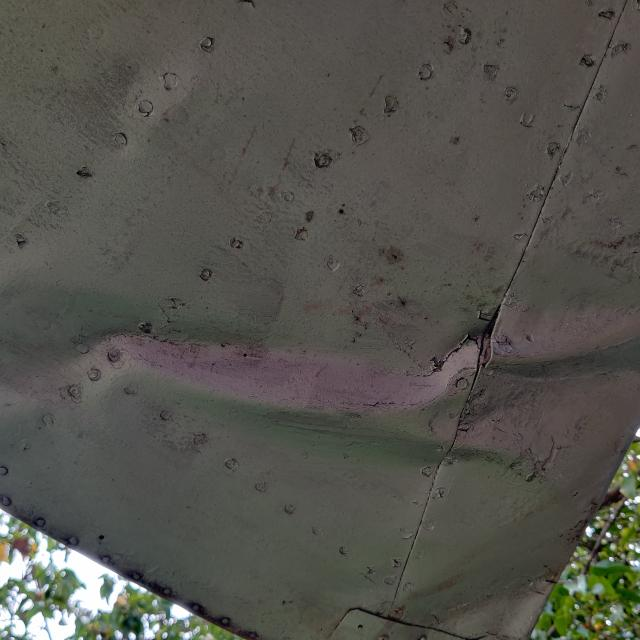crack: (422, 325, 487, 379)
dent: (2, 258, 640, 495)
